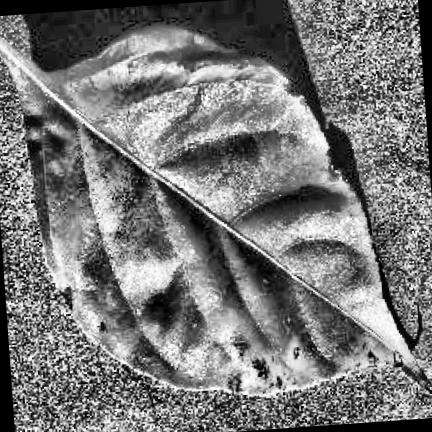leaf: (0, 23, 432, 391)
